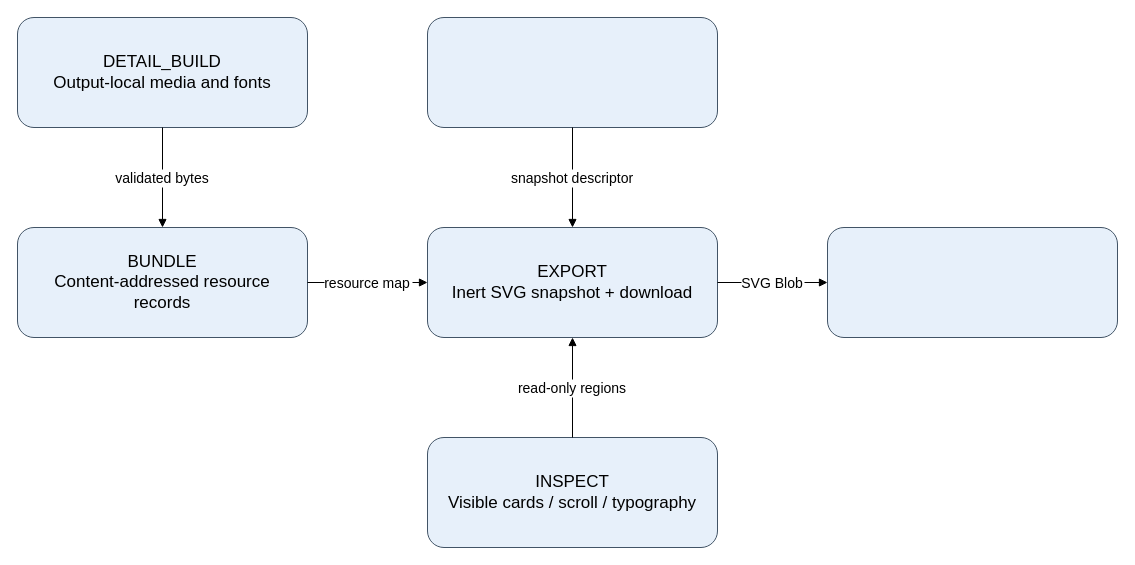
Image size: 1135x565. Some labels were removed from this diagram. The centre of each missing label's shape, as x and y in pixels:
Browser / OS save interface Reader chooses file location: point 972,282
RENDER Committed view / current crop: point 572,72
